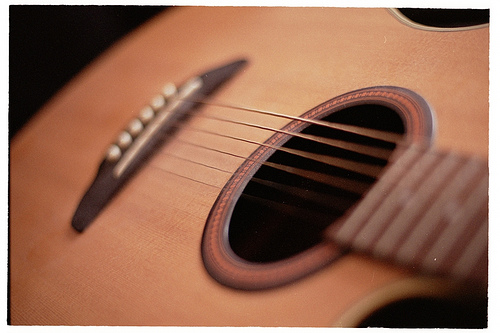guitar: (9, 5, 487, 329)
